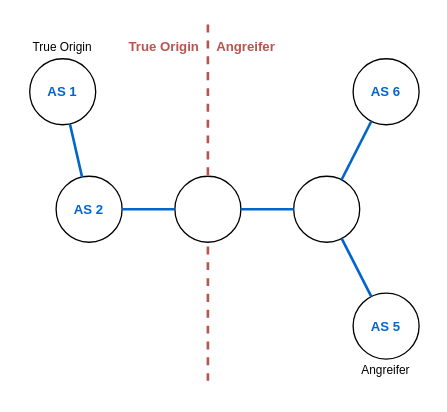
The diagram is 447 pixels wide and 412 high, and some of its shapes have lost their labels. The centre of each missing label's shape, as x and y in pixels:
AS 3: point 207,208
AS 4: point 326,208
